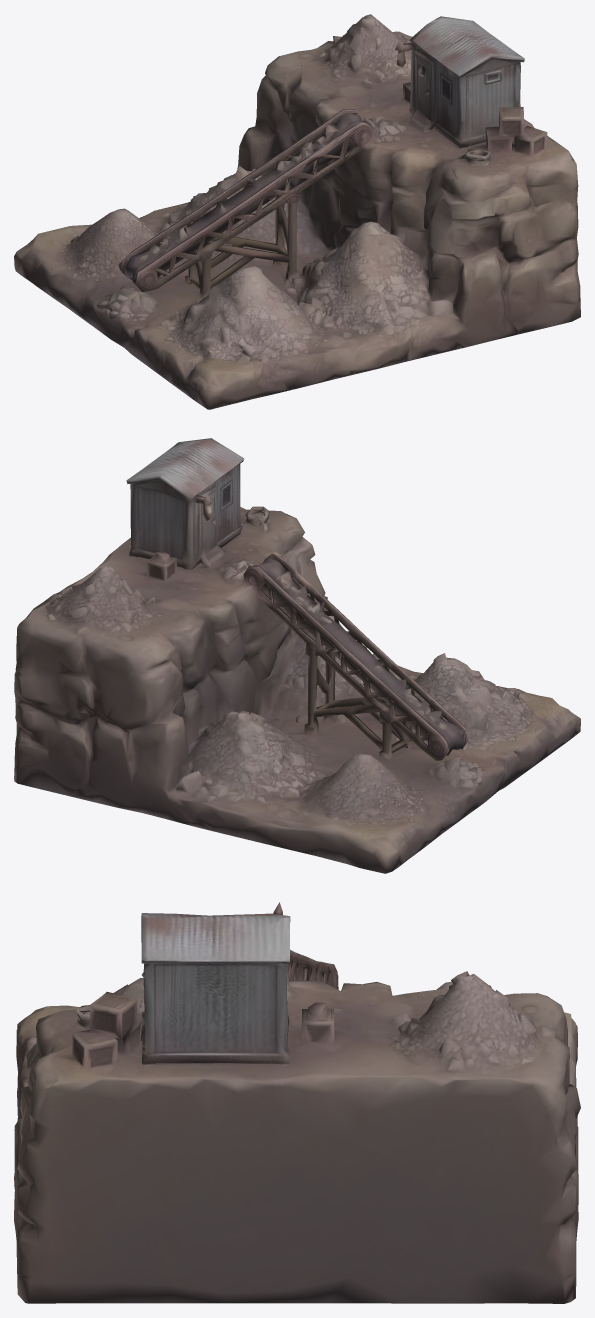
Rendered from mining_site_main.glb.
3 views of the same model, one above another, from view 1: azimuth 30°, elevation 25°; view 2: azimuth 150°, elevation 25°; view 3: azimuth 270°, elevation 25° (orthographic). The views are drawn at different scales.
Visible parts, largest first — view 1: tripo_node_4879a70b-c7c2-497c-bd1d-e1b101991508; view 2: tripo_node_4879a70b-c7c2-497c-bd1d-e1b101991508; view 3: tripo_node_4879a70b-c7c2-497c-bd1d-e1b101991508.
Boxes of the visible parts, bbox=[...] form: tripo_node_4879a70b-c7c2-497c-bd1d-e1b101991508: bbox=[14, 14, 580, 409]; tripo_node_4879a70b-c7c2-497c-bd1d-e1b101991508: bbox=[14, 438, 580, 873]; tripo_node_4879a70b-c7c2-497c-bd1d-e1b101991508: bbox=[14, 902, 580, 1303].
Size of the model in its own units: 1 by 0.6171 by 0.9037.
Materials: 1 (1 with a texture image).
